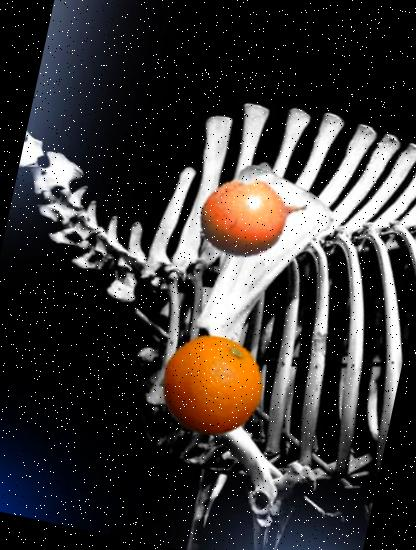Granadilla: (188, 151, 320, 284)
Orange: (150, 326, 272, 448)
